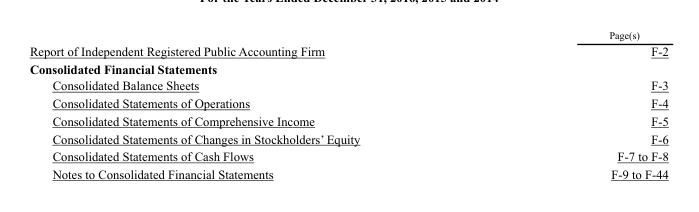table: (28, 29, 667, 180)
table column: (28, 29, 483, 180), (483, 29, 667, 180)
table column header: (28, 29, 667, 59)
table projected row header: (28, 59, 667, 76)
table row: (28, 29, 667, 59), (28, 76, 667, 94), (28, 111, 667, 129), (28, 129, 667, 147), (28, 59, 667, 76), (28, 94, 667, 111), (28, 147, 667, 164), (28, 164, 667, 180)
